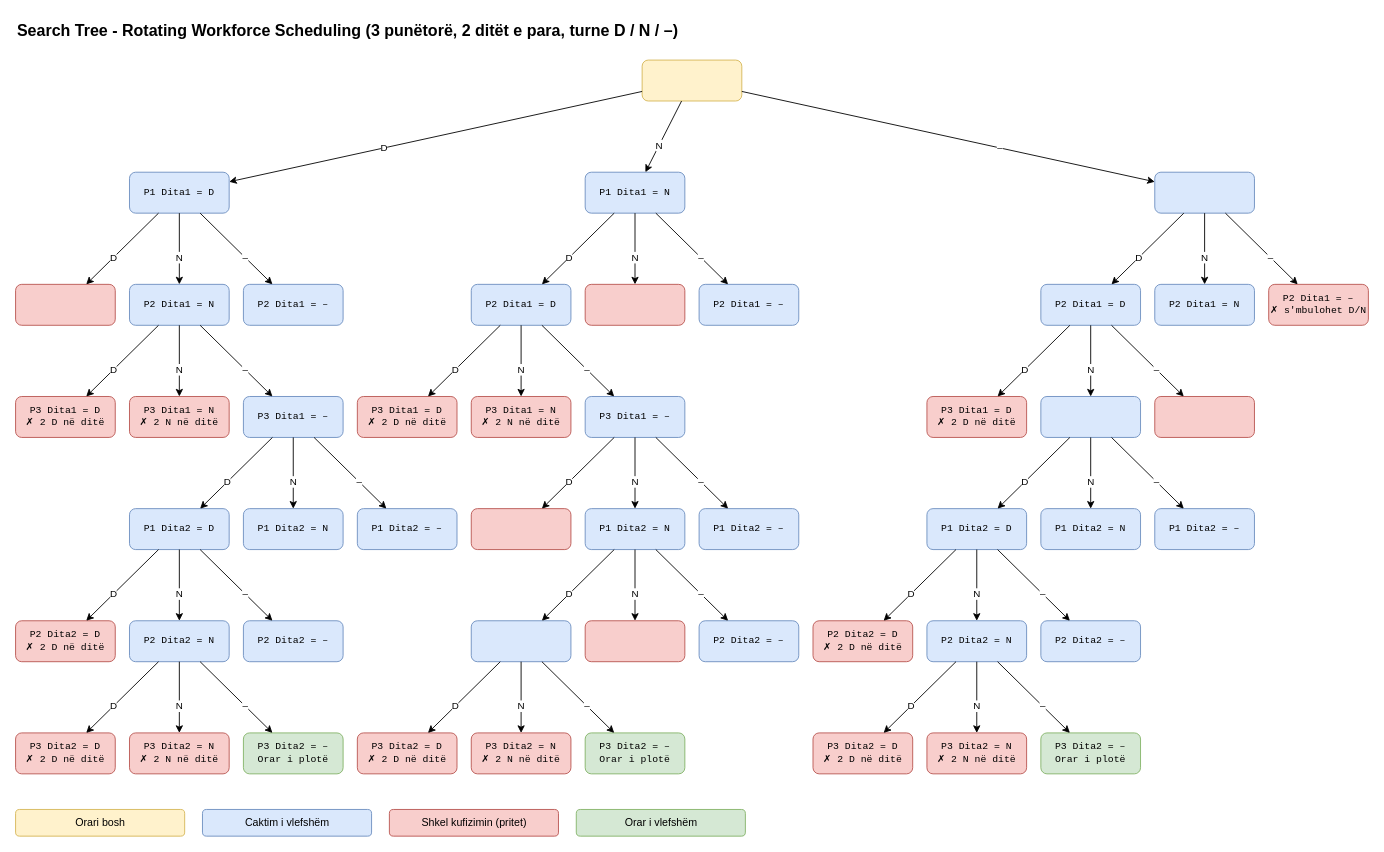
Image size: 1384x852. Some labels were removed from this diagram. The centre of each missing label's shape, as x and y in pixels:
[ ] orari bosh: the point at 691,80
P1 Dita1 = –: the point at 1204,192
P1 Dita2 = D ✗ N → D: the point at 520,529
P2 Dita1 = D ✗ 2 D në ditë: the point at 65,304
P2 Dita1 = N ✗ 2 N në ditë: the point at 634,304
P2 Dita2 = D: the point at 520,641
P2 Dita2 = N ✗ 2 N në ditë: the point at 634,641
P3 Dita1 = N: the point at 1090,416
P3 Dita1 = – ✗ s'mbulohet D/N: the point at 1204,416
